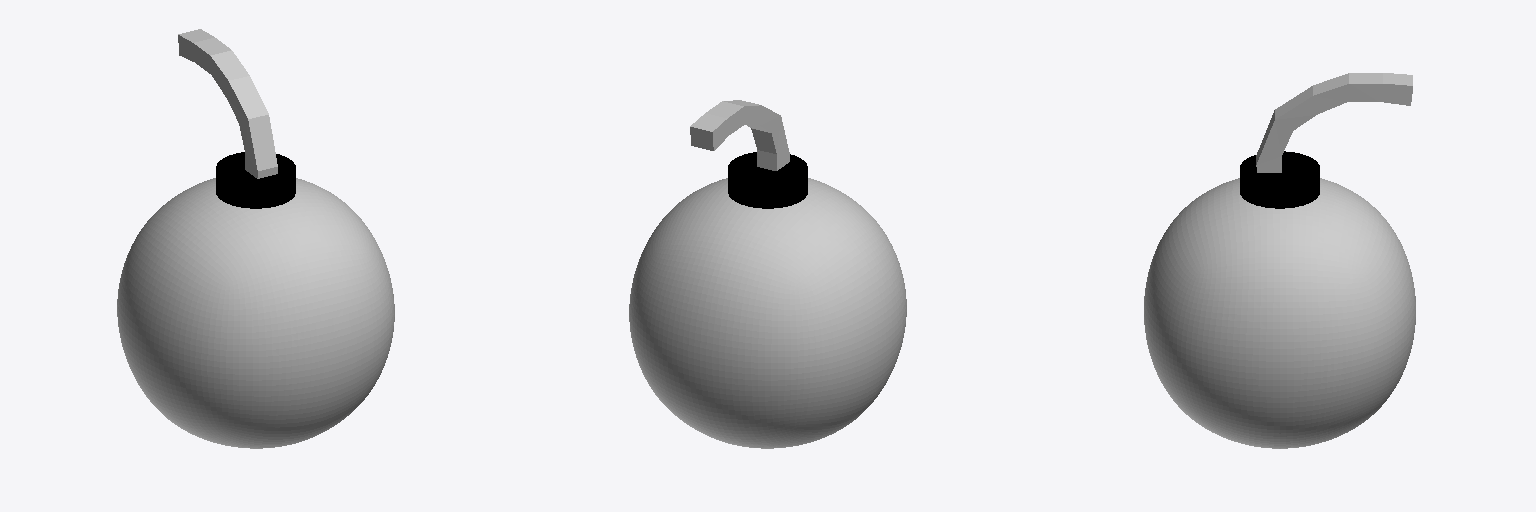
Rendered from bom.obj.
3 renders of one model, left to right at view 1: azimuth 30°, elevation 25°; view 2: azimuth 150°, elevation 25°; view 3: azimuth 270°, elevation 25°, orthographic.
Visible parts, largest first — view 1: Cube; view 2: Cube; view 3: Cube.
Part boxes in pixels (left/top/right/bottom): Cube: left=117, top=29, right=394, bottom=448; Cube: left=629, top=100, right=906, bottom=448; Cube: left=1144, top=73, right=1415, bottom=448.
Size of the model in its own units: 1.68 by 2.42 by 1.68.